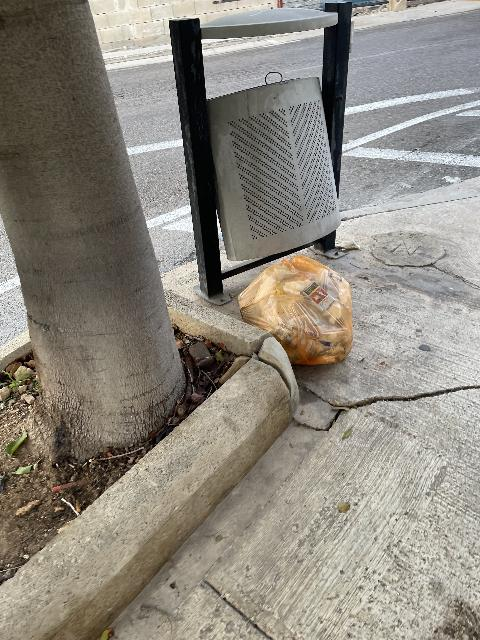Other: (238, 255, 353, 366)
